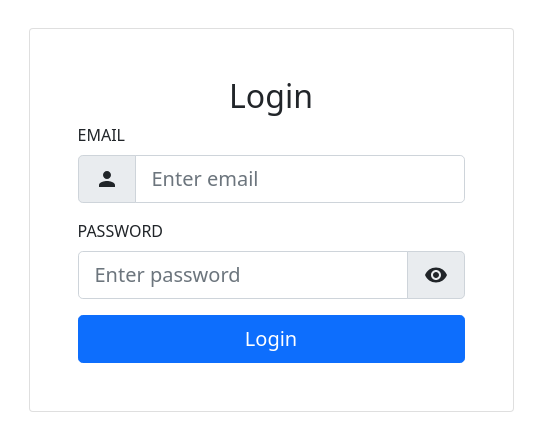
Test: Login Form Validation › displays error message when form is submitted without email field
The width and height of the screenshot is (544, 441).
# Type into the password field
Type "password123" into the password field labelled "PASSWORD".
click(243, 275); type("password123")  # box [78,251,408,299]
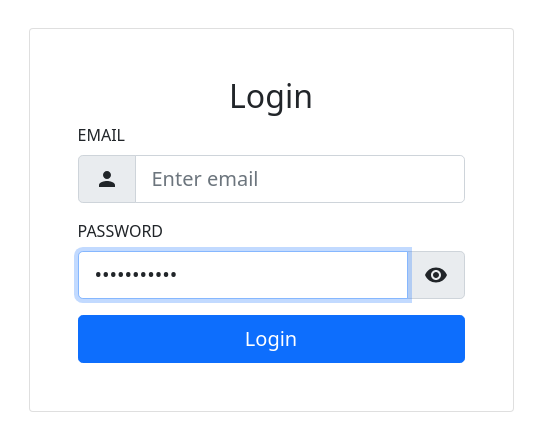
# Attempt to submit the form without entering values
Click the submit button.
click(272, 339)  # box [78,315,465,363]
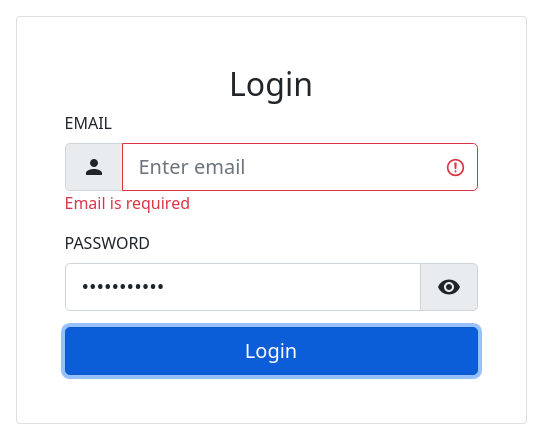
expect the text "Email is required" is shown: met, box [64,192,190,214]
